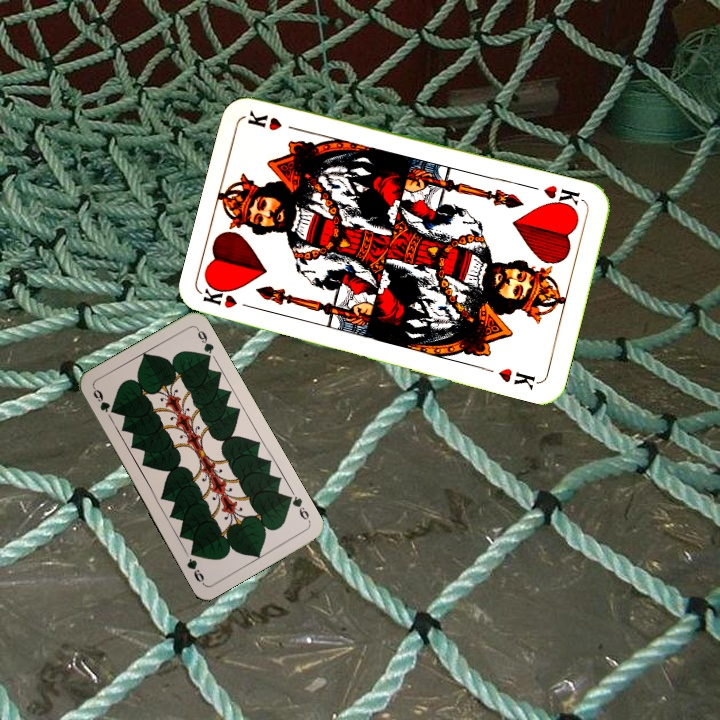G9: (282, 491, 313, 525), (89, 384, 113, 415)
HK: (200, 284, 259, 312), (539, 181, 586, 213)
